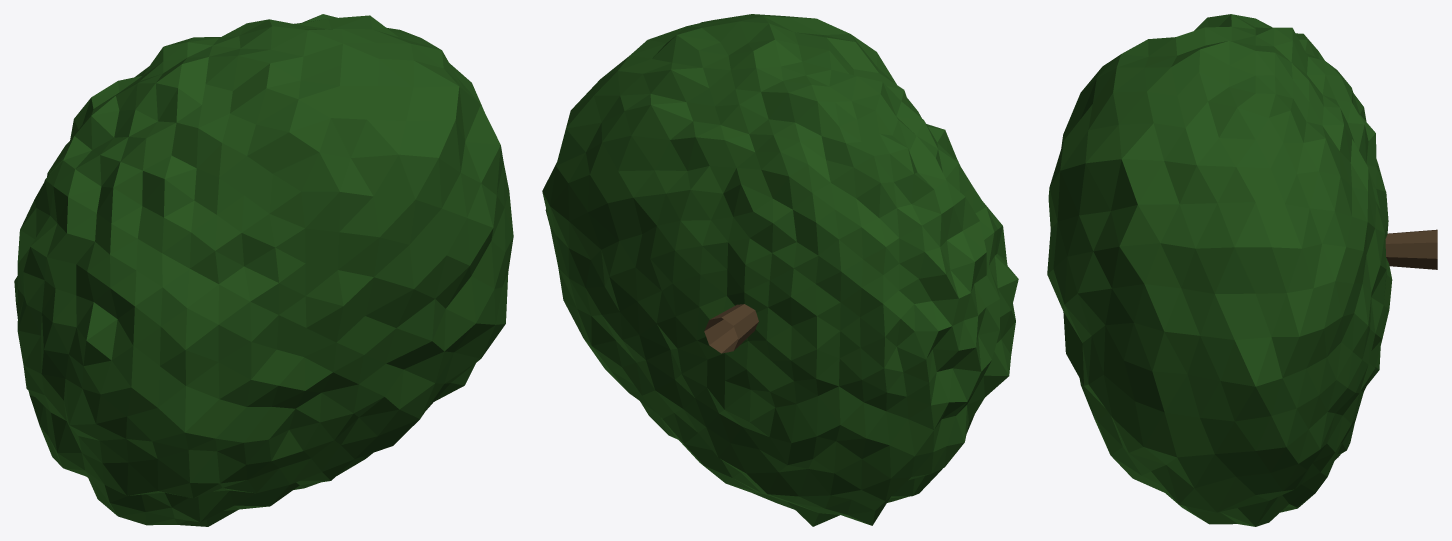
Rendered from citrus_a.obj.
3 renders of one model, left to right at view 1: azimuth 30°, elevation 25°; view 2: azimuth 150°, elevation 25°; view 3: azimuth 270°, elevation 25°, orthographic. The views are drawn at different scales.
Visible parts, largest first — view 1: canopy; view 2: canopy, trunk; view 3: canopy, trunk.
Part boxes in pixels (x1,y1,x2,y2): canopy: (14, 14, 513, 526); canopy: (542, 14, 1018, 526); trunk: (704, 304, 758, 353); canopy: (1047, 14, 1392, 526); trunk: (1385, 229, 1437, 269).
Size of the model in its own units: 3.94 by 3.95 by 2.83.
